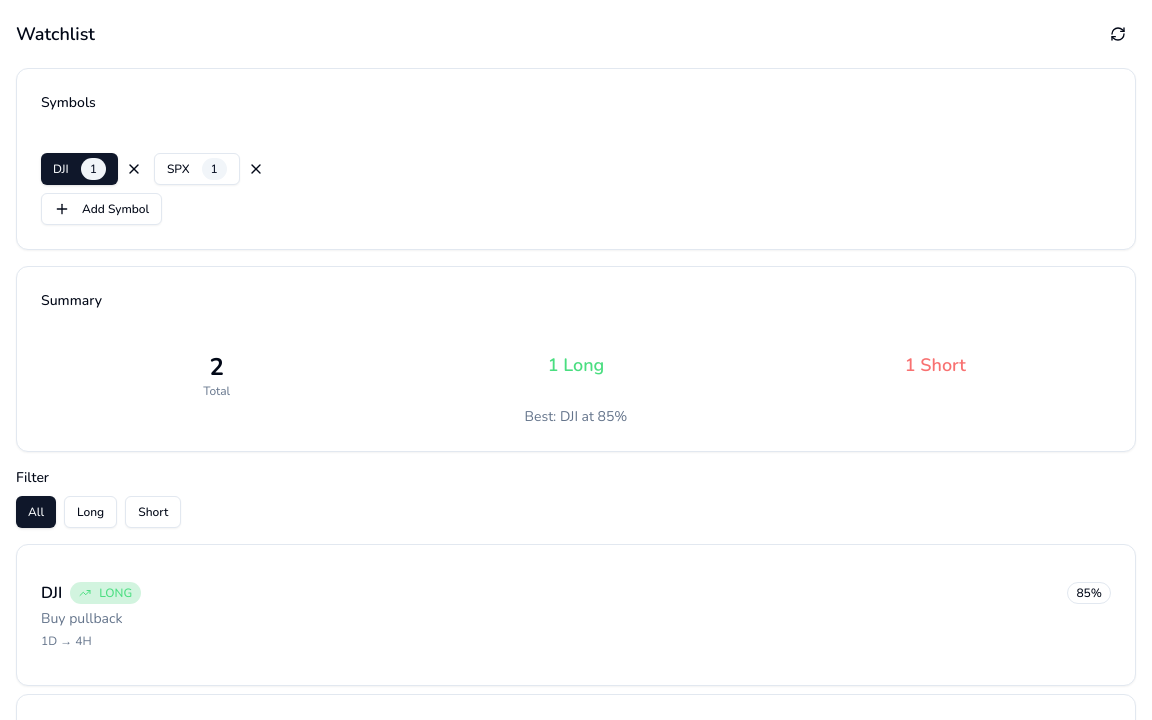
Test case: WatchlistPanel › add symbol › should show available symbols dropdown when add clicked
The image size is (1152, 720).
Step 1. Click the button "Add Symbol" → (102, 209), box [41,193,162,225]
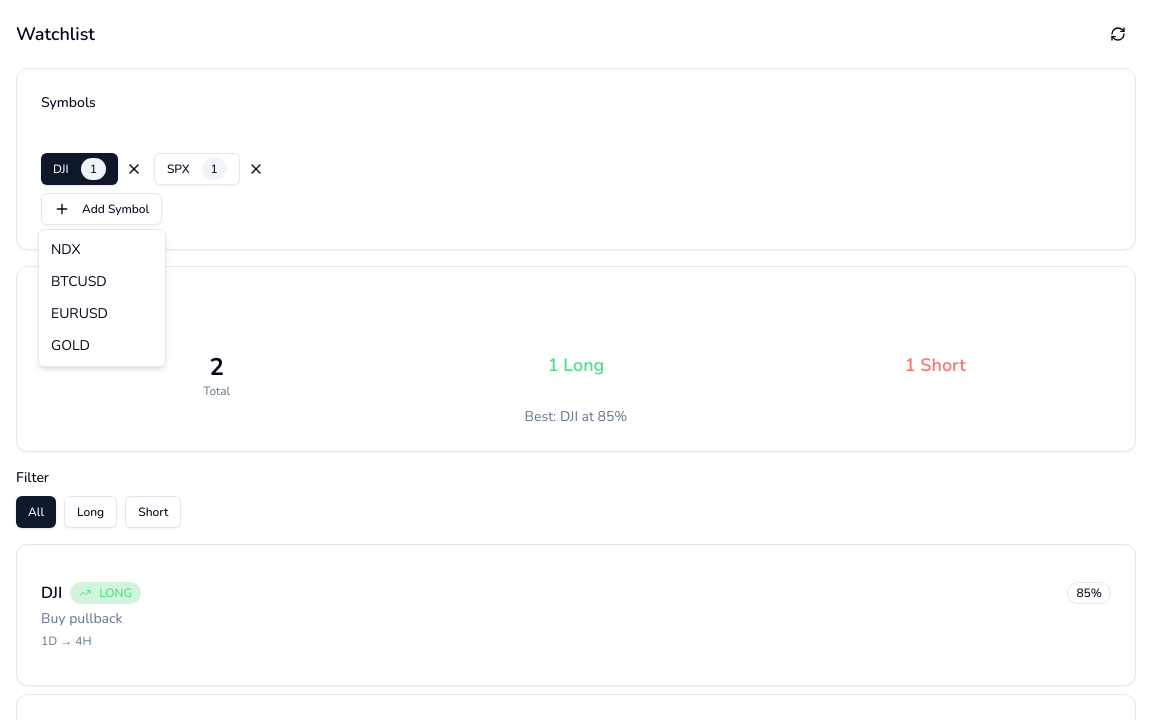
Expected: the menu item "NDX" is shown, [51,240,80,259]
Expected: the menu item "BTCUSD" is shown, [51,272,107,291]
